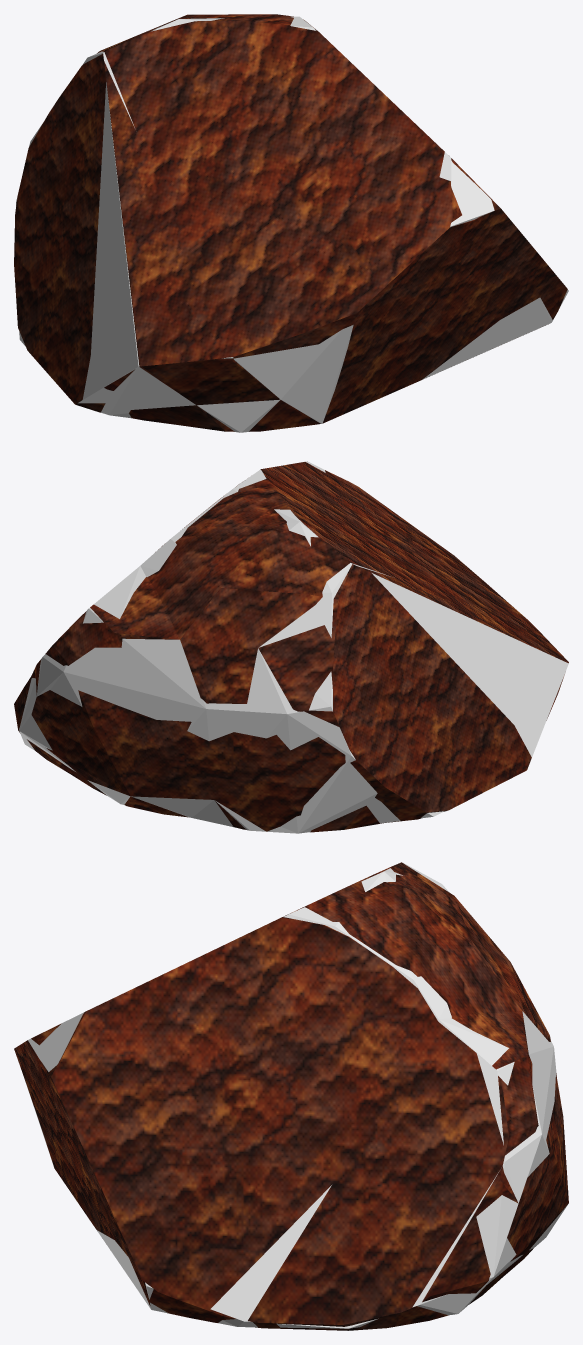
Rendered from Laterita-03-Bloco-Grande.glb.
The picture shows the model from 3 angles, top to bottom: view 1: azimuth 30°, elevation 25°; view 2: azimuth 150°, elevation 25°; view 3: azimuth 270°, elevation 25°; orthographic projection. The views are drawn at different scales.
Visible parts, largest first — view 1: Laterita-03-Bloco-Grande, Laterita-03-Bloco-Grande_COL; view 2: Laterita-03-Bloco-Grande, Laterita-03-Bloco-Grande_COL; view 3: Laterita-03-Bloco-Grande, Laterita-03-Bloco-Grande_COL.
Part boxes in pixels (x1=…): Laterita-03-Bloco-Grande: x1=14, y1=14, x2=567, y2=431; Laterita-03-Bloco-Grande_COL: x1=16, y1=16, x2=568, y2=432; Laterita-03-Bloco-Grande: x1=14, y1=462, x2=568, y2=832; Laterita-03-Bloco-Grande_COL: x1=19, y1=461, x2=568, y2=833; Laterita-03-Bloco-Grande: x1=14, y1=862, x2=568, y2=1330; Laterita-03-Bloco-Grande_COL: x1=26, y1=862, x2=567, y2=1328.
Size of what is drawn, in the model's own units: 3.14 by 1.8 by 2.95.
Materials: 1 (1 with a texture image).
